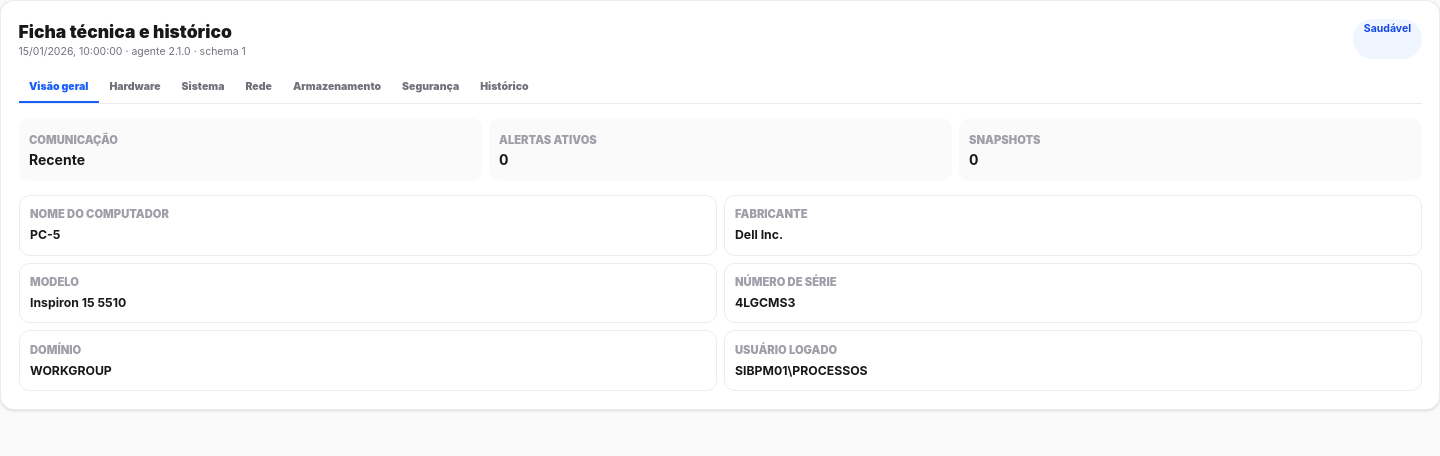
Segurança: título e status traduzidos, sem duplicar o status cru dentro da ficha
Step 1. Click the button "Segurança" → (431, 88), box [392,73,470,103]
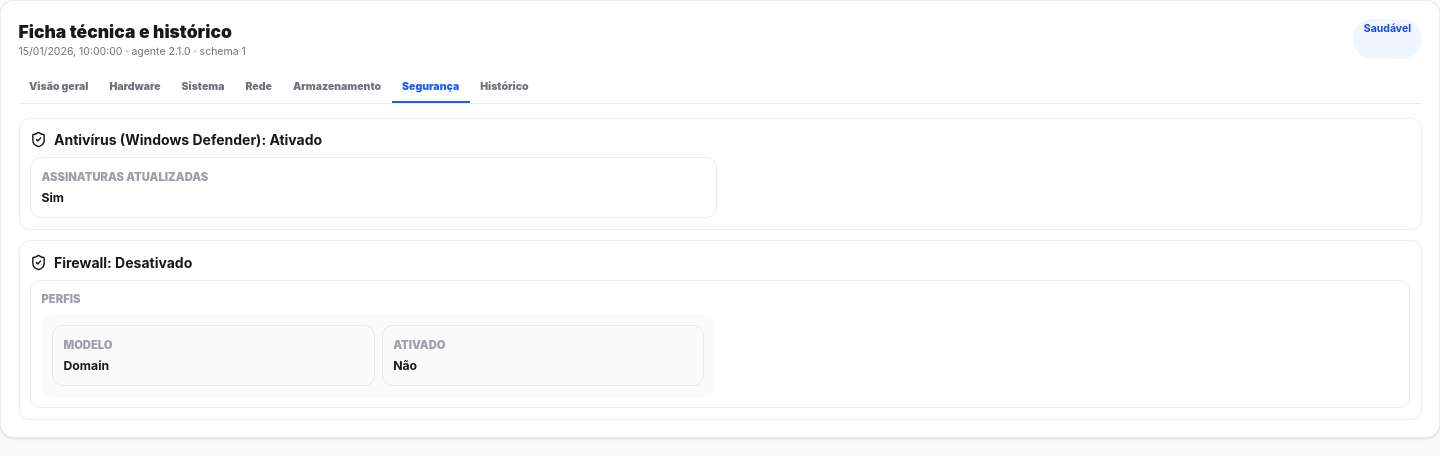
Expected: the text "Antivírus (Windows Defender): Ativado" is shown, [30,131,322,148]
Expected: the text "Firewall: Desativado" is shown, [30,254,192,270]
